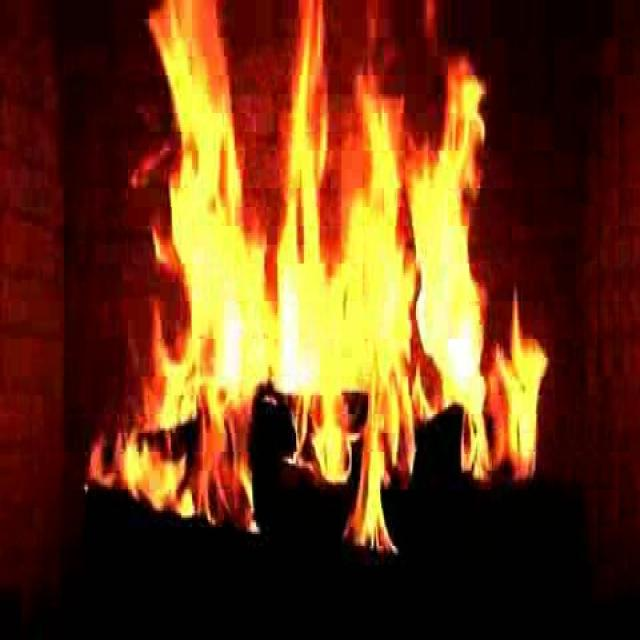fire: (136, 0, 549, 565)
